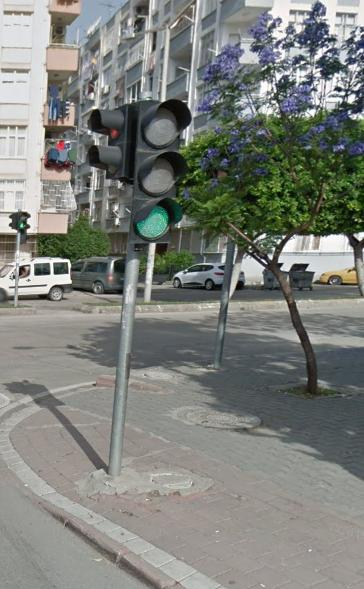greenlight: (129, 102, 190, 243)
